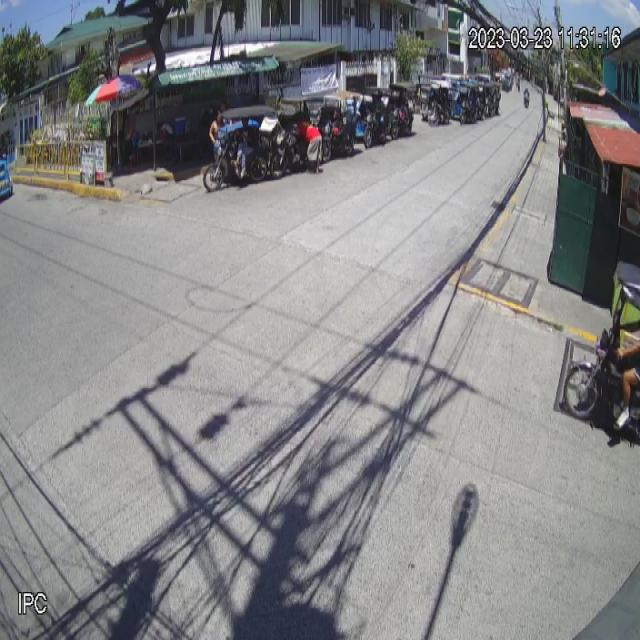Tricycle: (202, 104, 274, 193)
